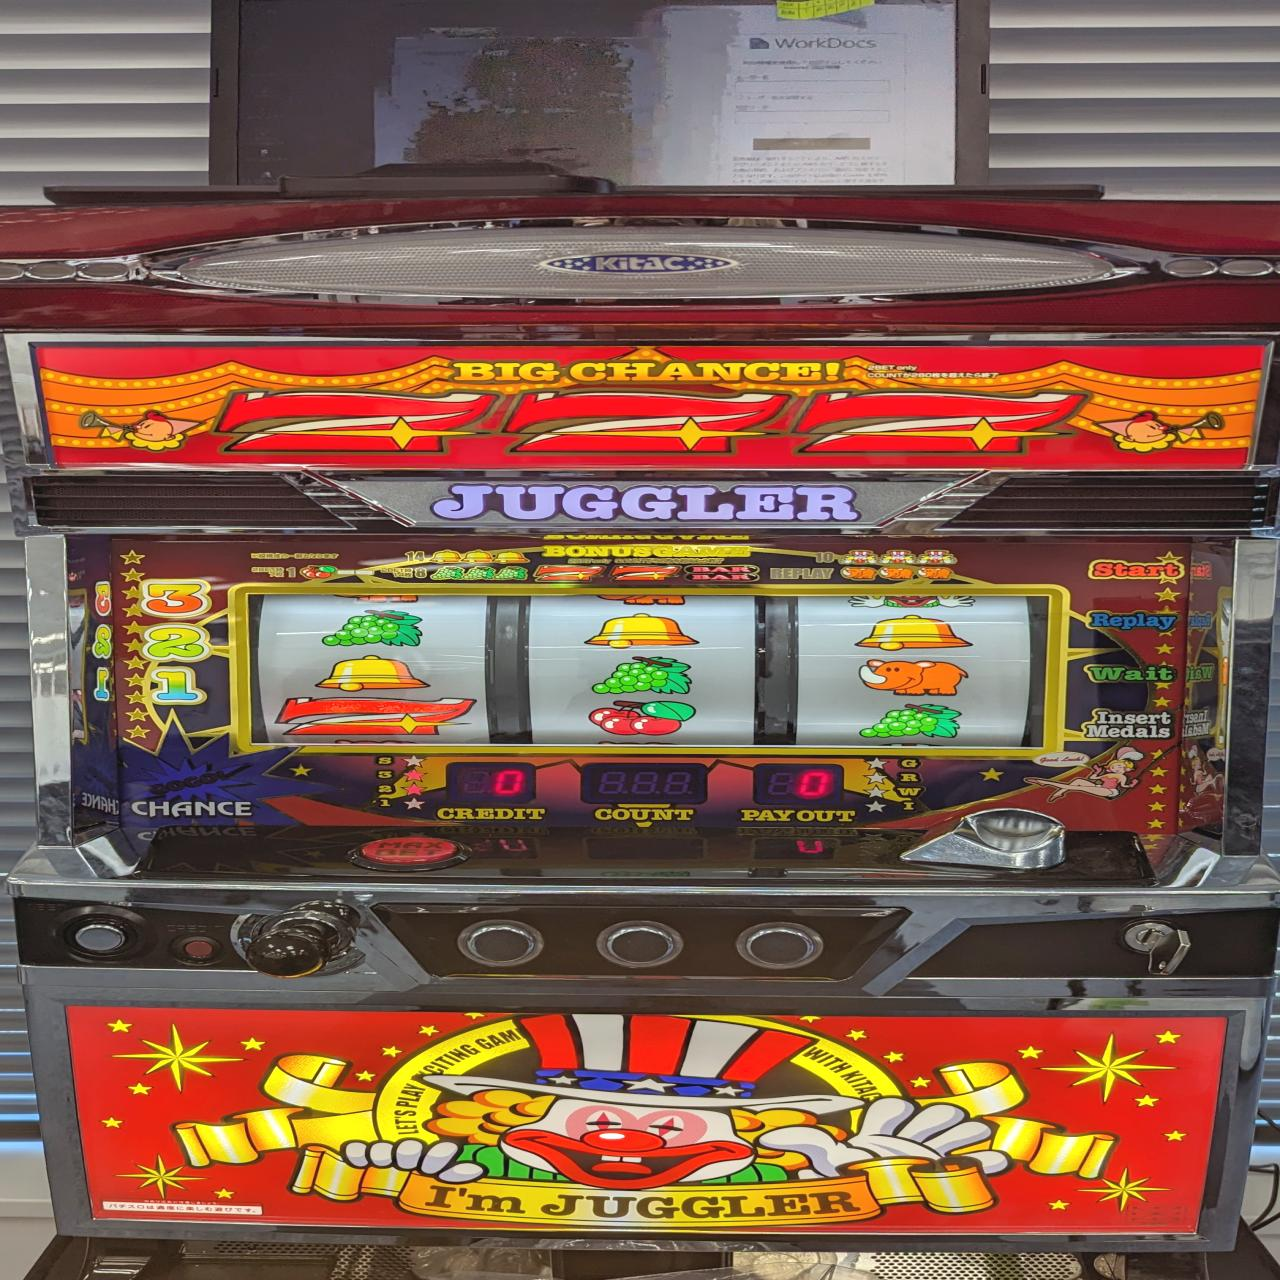7: (275, 695, 474, 738)
Display: (236, 587, 1064, 755)
bell: (849, 614, 976, 651), (318, 655, 431, 694), (584, 613, 700, 648)
cherry: (587, 700, 697, 736)
grape: (322, 610, 424, 649), (593, 655, 694, 695), (862, 703, 961, 741)
rhino: (859, 659, 972, 695)
